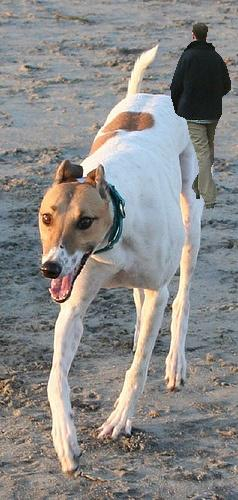tampered: (171, 23, 231, 209)
